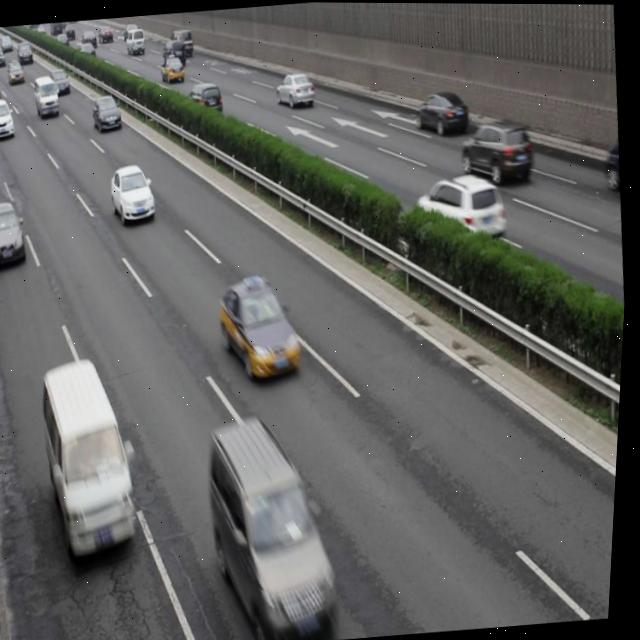car: (218, 273, 307, 383), (412, 168, 509, 247), (457, 116, 534, 187), (110, 163, 160, 224), (413, 90, 470, 138), (0, 198, 32, 269), (275, 69, 316, 109), (187, 80, 225, 120), (92, 94, 125, 133), (161, 54, 186, 84), (0, 97, 17, 140), (49, 68, 72, 94), (8, 59, 26, 84), (0, 75, 4, 102)
truck: (204, 410, 354, 640), (38, 356, 153, 558), (32, 74, 63, 119), (602, 141, 624, 190), (161, 37, 187, 68), (169, 29, 194, 57), (125, 30, 146, 56)
